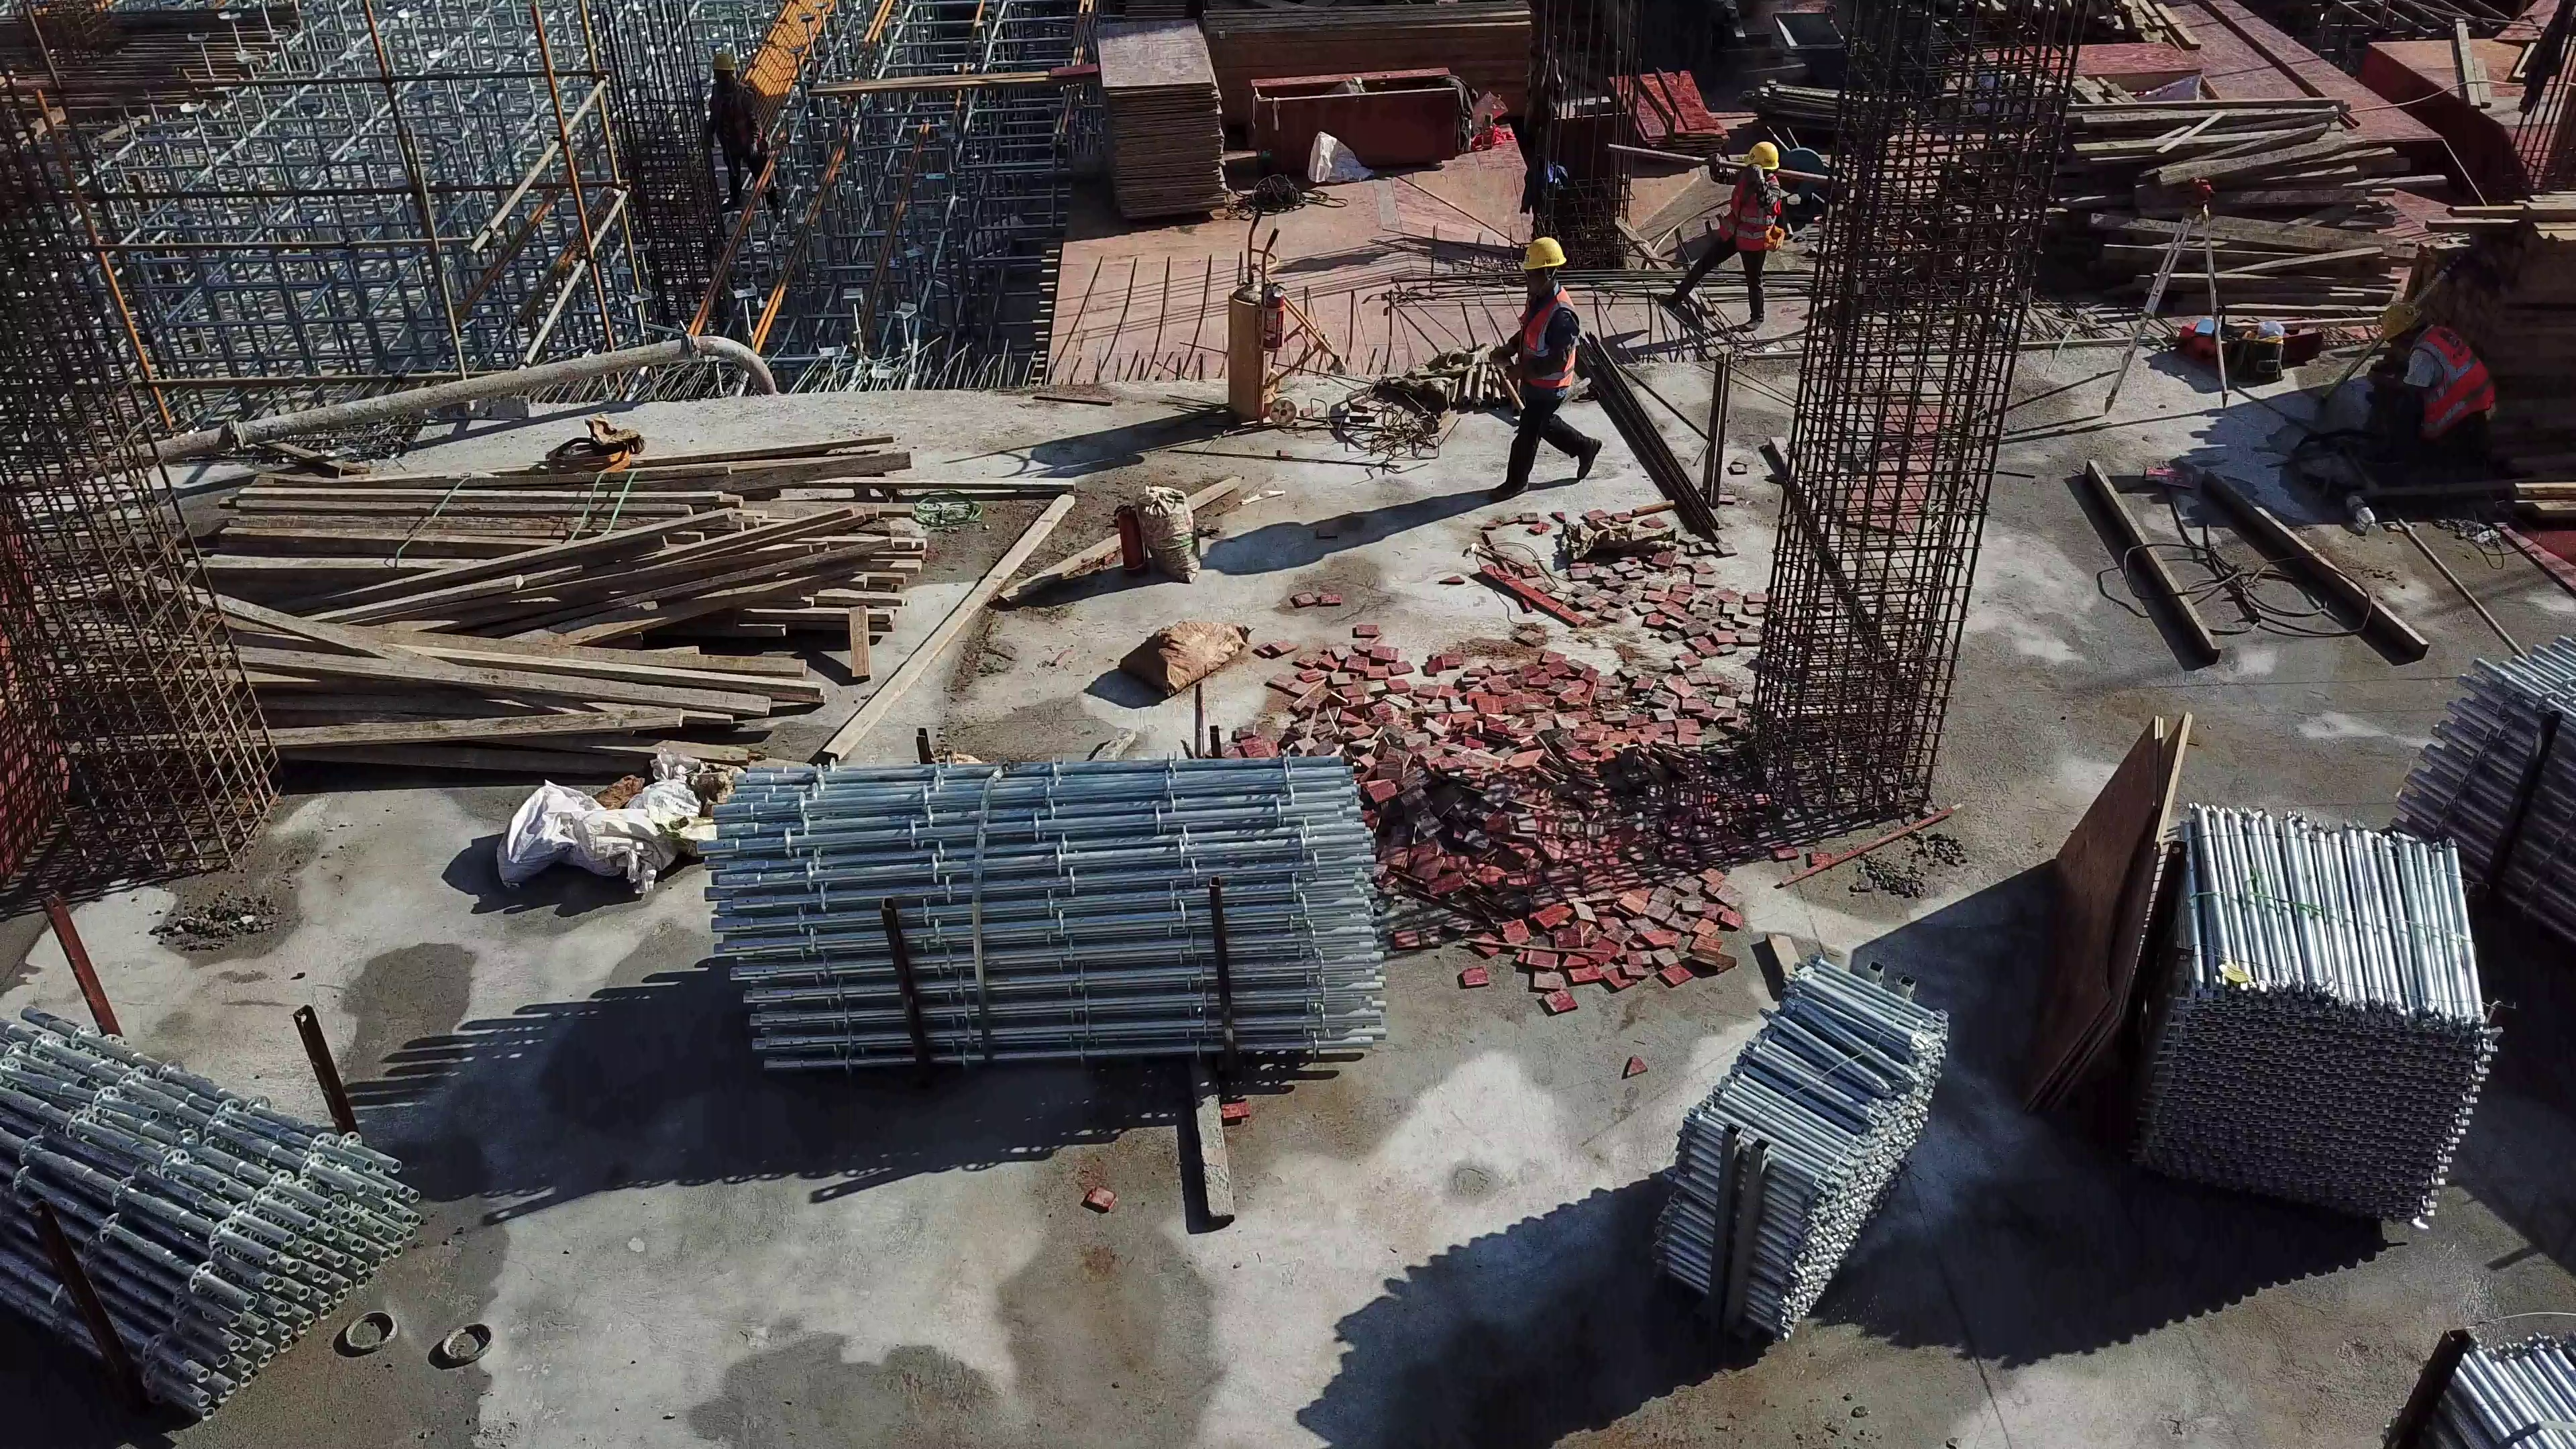board: (1094, 5, 1235, 226)
helmet: (2377, 299, 2425, 346), (1516, 231, 1568, 270), (1745, 140, 1784, 170), (707, 54, 740, 75)
person: (1481, 229, 1605, 497), (1653, 143, 1789, 337), (2378, 288, 2498, 467), (707, 49, 784, 227)
scaffold: (687, 745, 1399, 1073), (6, 991, 426, 1429), (2161, 788, 2508, 1243), (1659, 944, 1957, 1356), (2368, 625, 2576, 926), (2410, 1310, 2574, 1449)
vest: (2406, 321, 2496, 434), (1503, 288, 1584, 402), (1698, 167, 1778, 252)
wood: (99, 417, 1016, 758)
